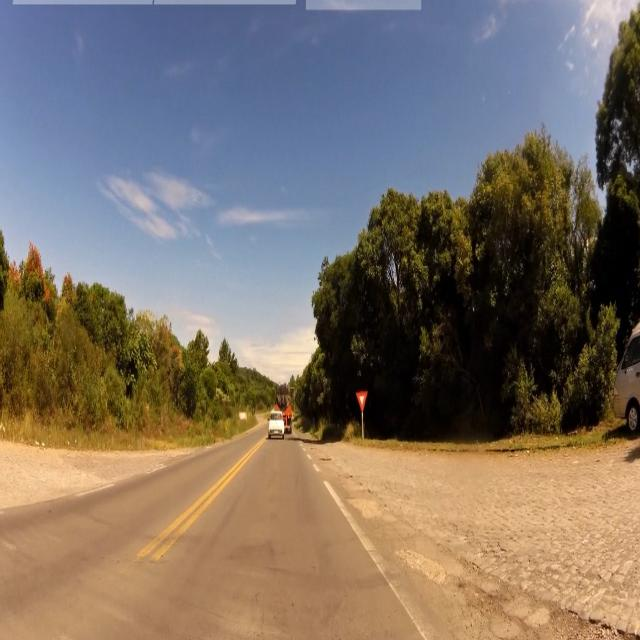R-2: (355, 390, 370, 414)
